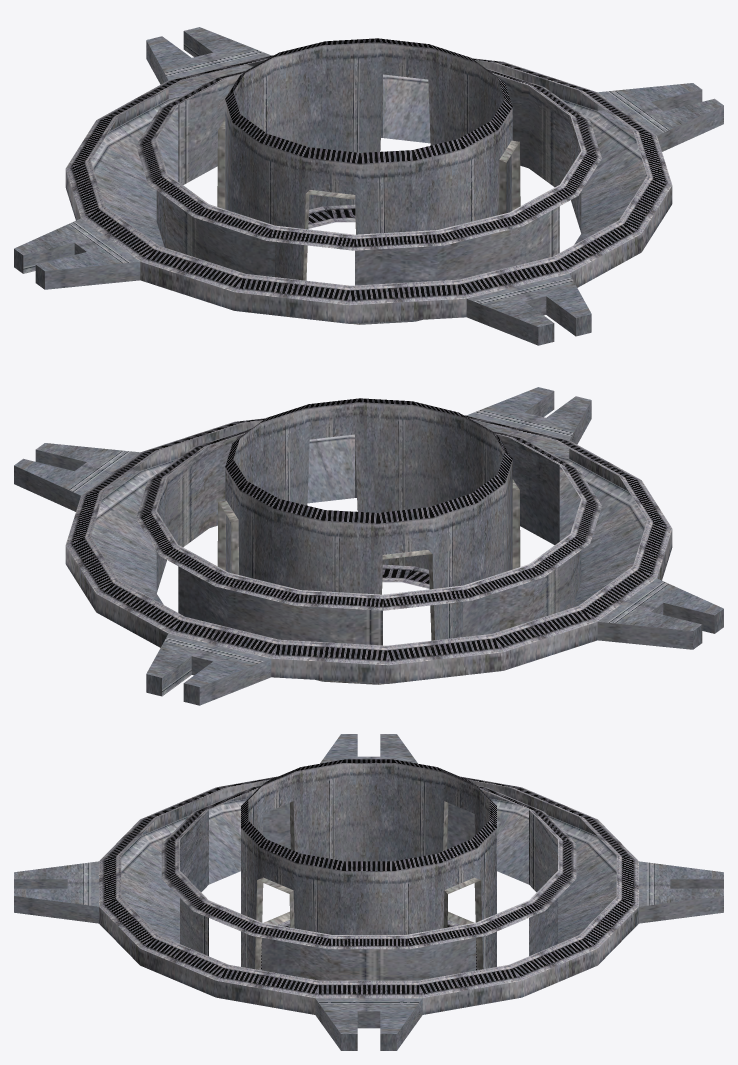
The model's file is ship_component_droidinterface_s02_l1.fbx.
The picture shows the model from 3 angles, top to bottom: view 1: azimuth 30°, elevation 25°; view 2: azimuth 150°, elevation 25°; view 3: azimuth 270°, elevation 25°; orthographic projection. The views are drawn at different scales.
Visible parts, largest first — view 1: mesh_node; view 2: mesh_node; view 3: mesh_node.
Boxes of the visible parts, left/top/right/bottom form: mesh_node: left=14, top=27, right=723, bottom=345; mesh_node: left=14, top=387, right=723, bottom=705; mesh_node: left=14, top=734, right=723, bottom=1050.
Bounding box in the file's own units: 0.4898 × 0.1434 × 0.4898.
